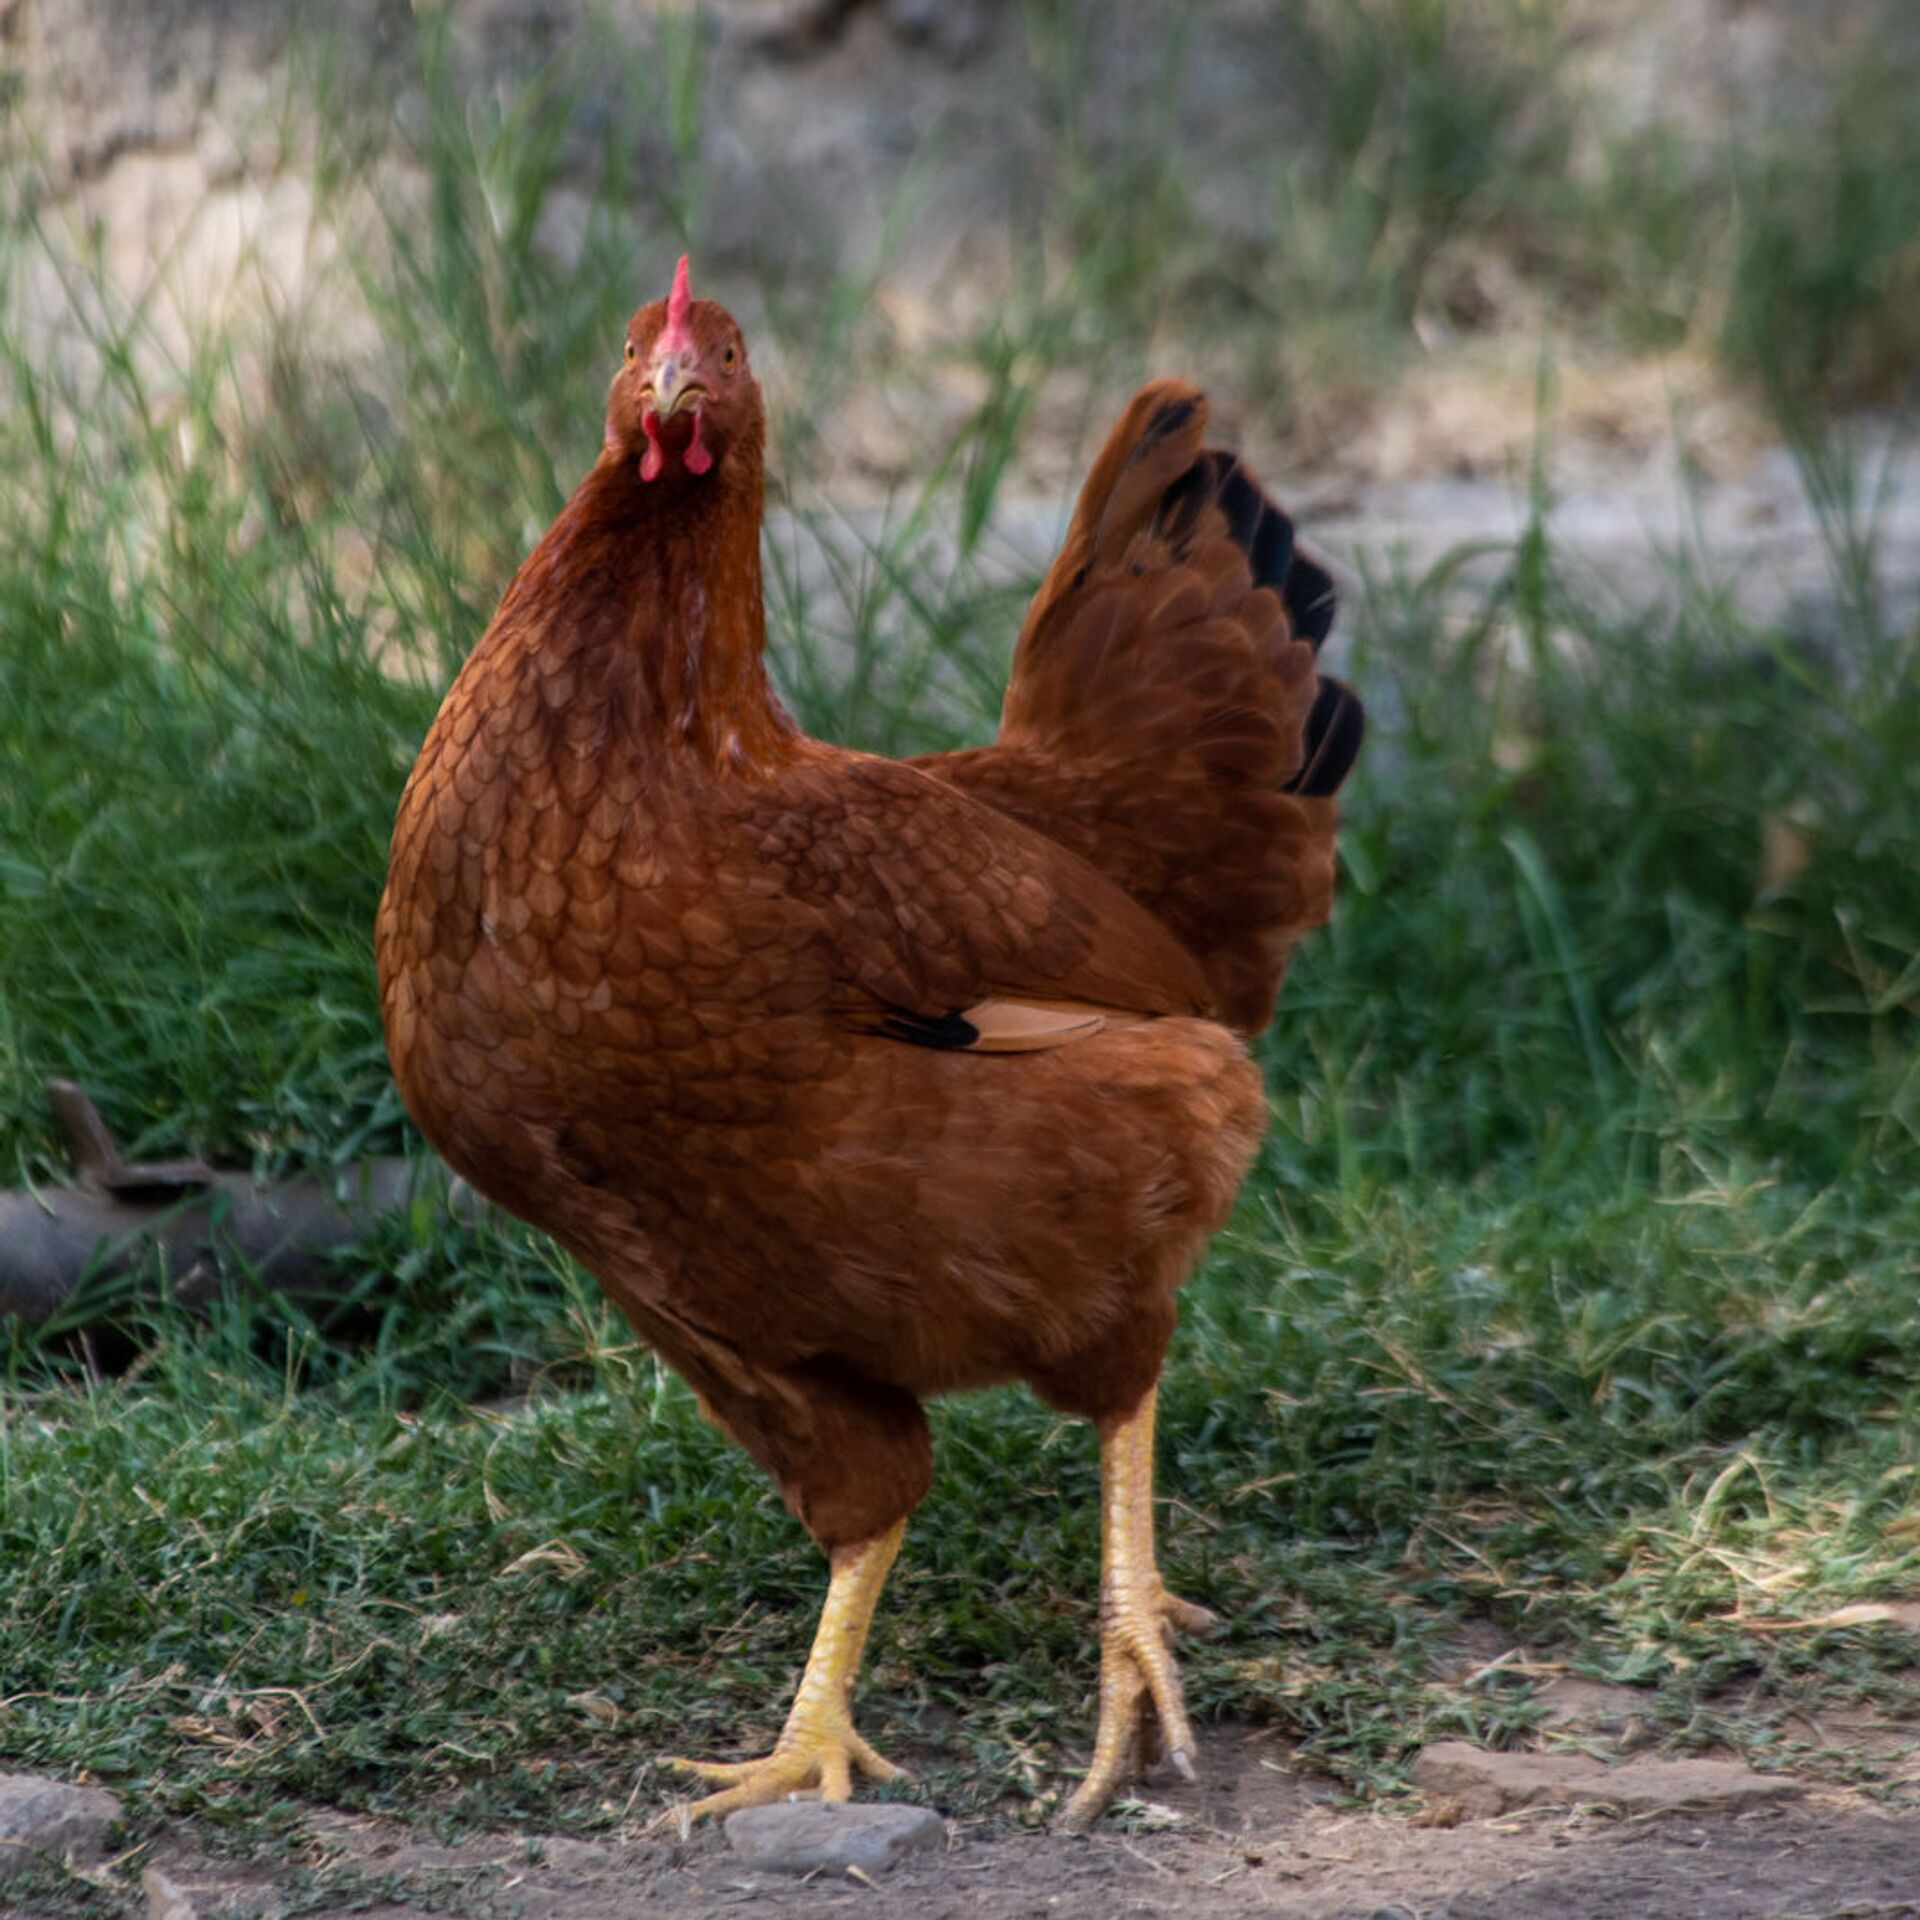chicken: (355, 230, 1366, 1804)
